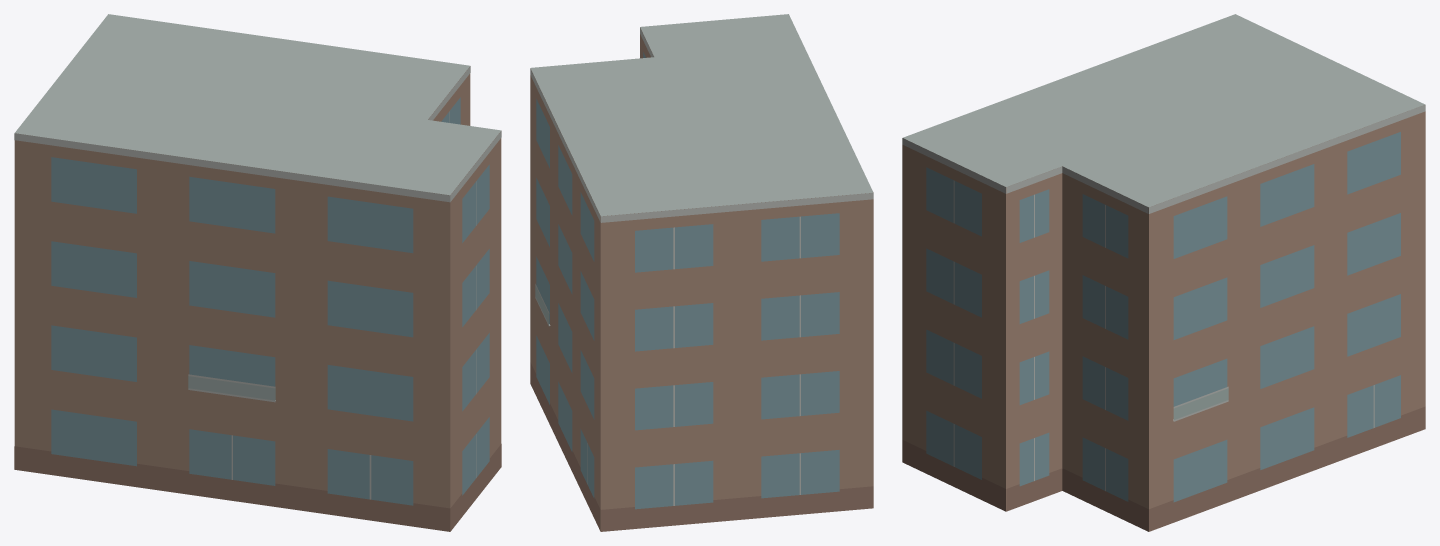
Rendered from survey-upis-33000551.glb.
3 views of the same model, side by side, from view 1: azimuth 30°, elevation 25°; view 2: azimuth 150°, elevation 25°; view 3: azimuth 270°, elevation 25° (orthographic). The views are drawn at different scales.
Parts seen in each view (by area): view 1: survey-upis-33000551.tmp; view 2: survey-upis-33000551.tmp; view 3: survey-upis-33000551.tmp.
Part boxes in pixels (box(x1,y1,x2,y2)): survey-upis-33000551.tmp: box(14, 14, 501, 531); survey-upis-33000551.tmp: box(530, 14, 873, 531); survey-upis-33000551.tmp: box(902, 14, 1425, 531).
Size of the model in its own units: 14.96 by 11.7 by 17.1.
